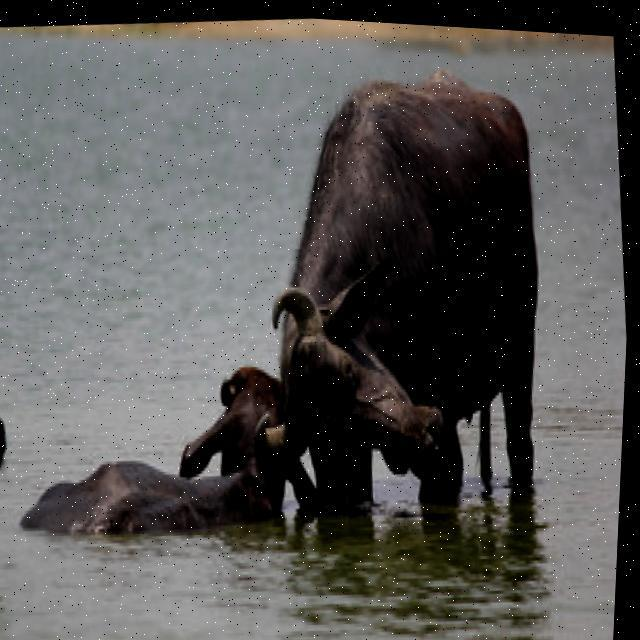Buffalo: (223, 52, 568, 533)
